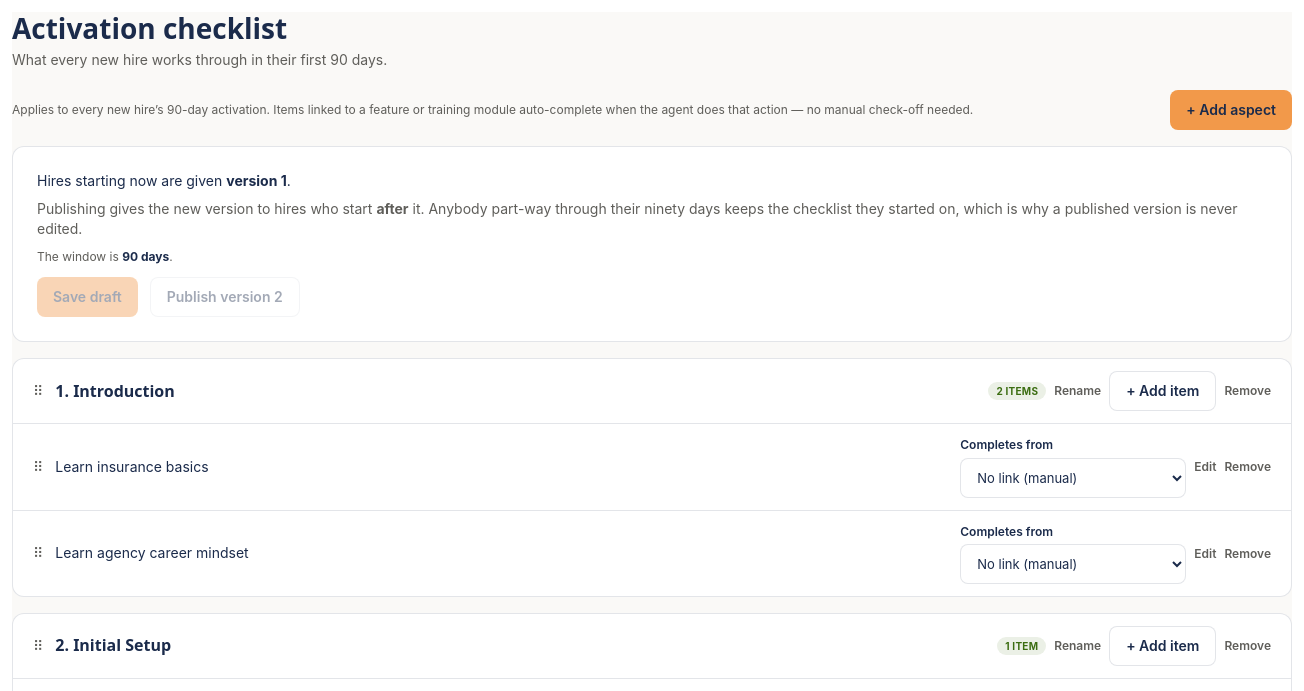
Scenario: Settings › Activation checklist (P5-T3) › shows what the server refused, and keeps the edit
This screenshot has width=1304, height=691.
Expected: the heading "1. Introduction" is shown, [55, 380, 175, 403]
Step 1. Select "Building Your Prospect List" in the dropdown labelled "Completes from" in the row of "Learn insurance basics" → point(1073, 478), box [960, 458, 1186, 498]
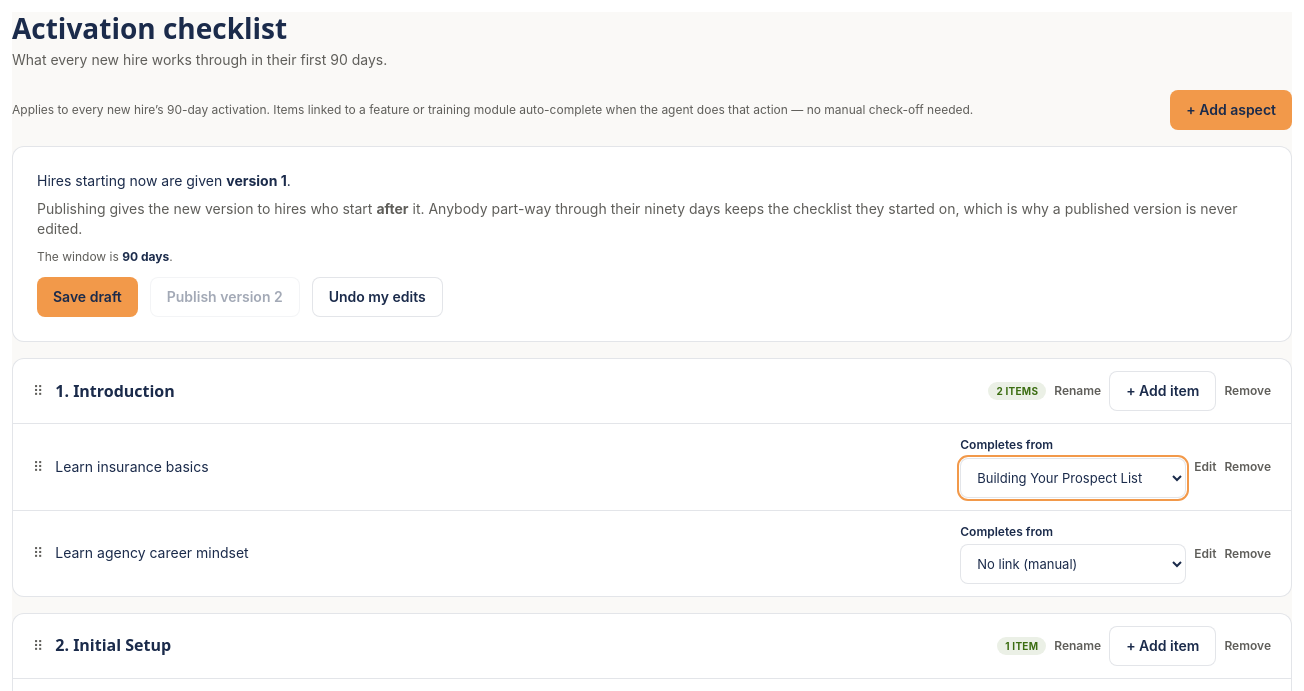
Step 2. Click the button "Save draft" → point(87, 297), box [37, 277, 138, 317]
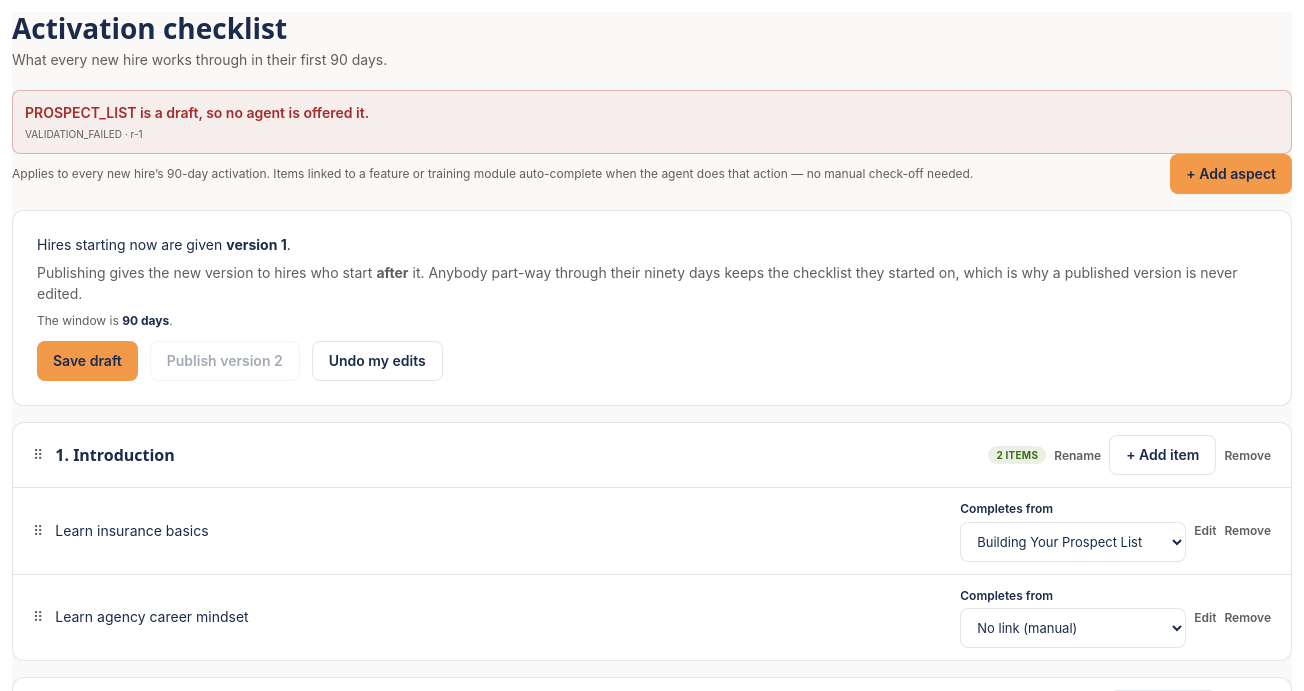
Expected: the text "PROSPECT_LIST is a draft, so no agent is offered it." is shown, [25, 104, 369, 121]
